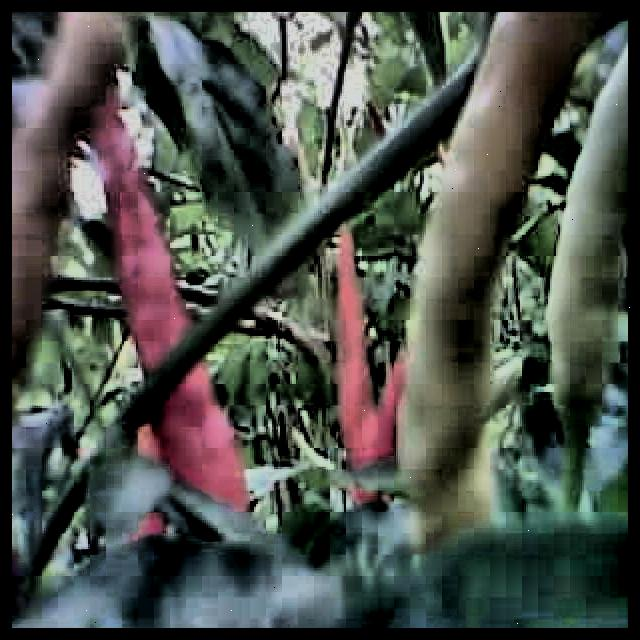Cabai: (101, 135, 255, 532), (338, 226, 389, 477)
